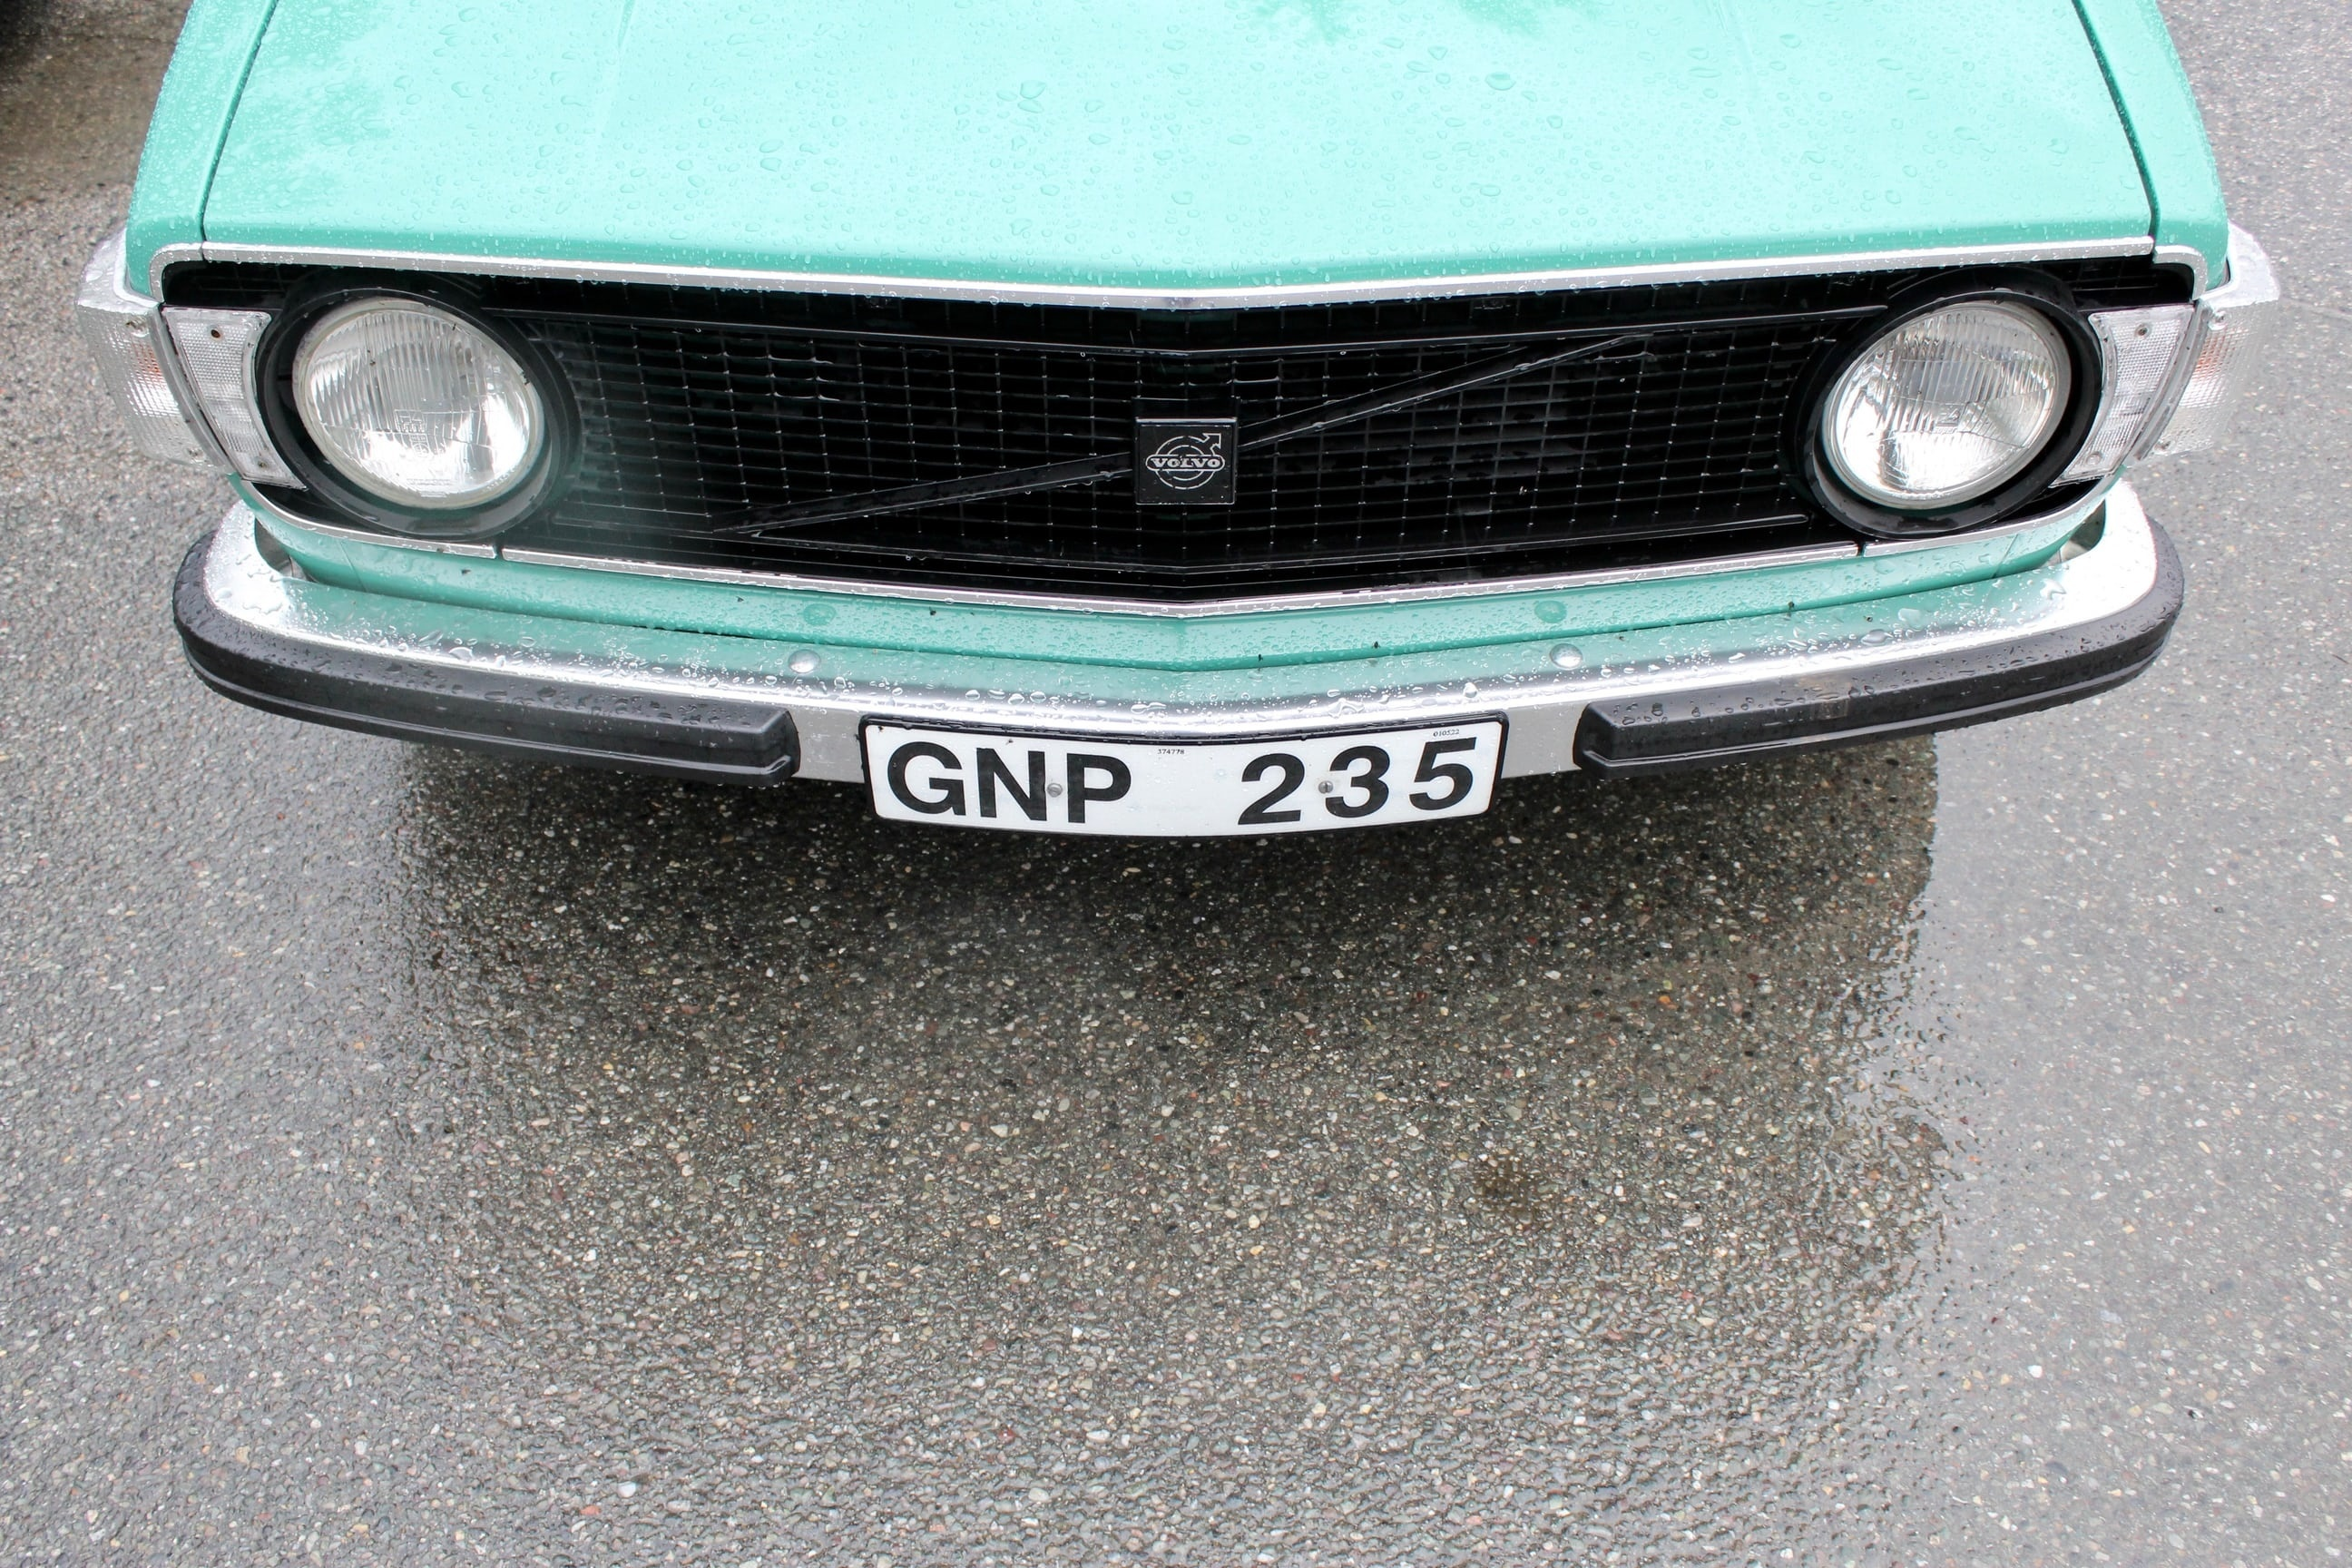plaka: (858, 713, 1506, 837)
